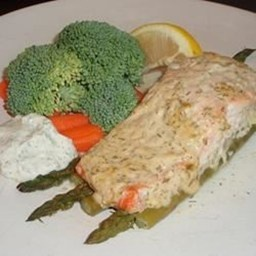background: (0, 8, 102, 98)
